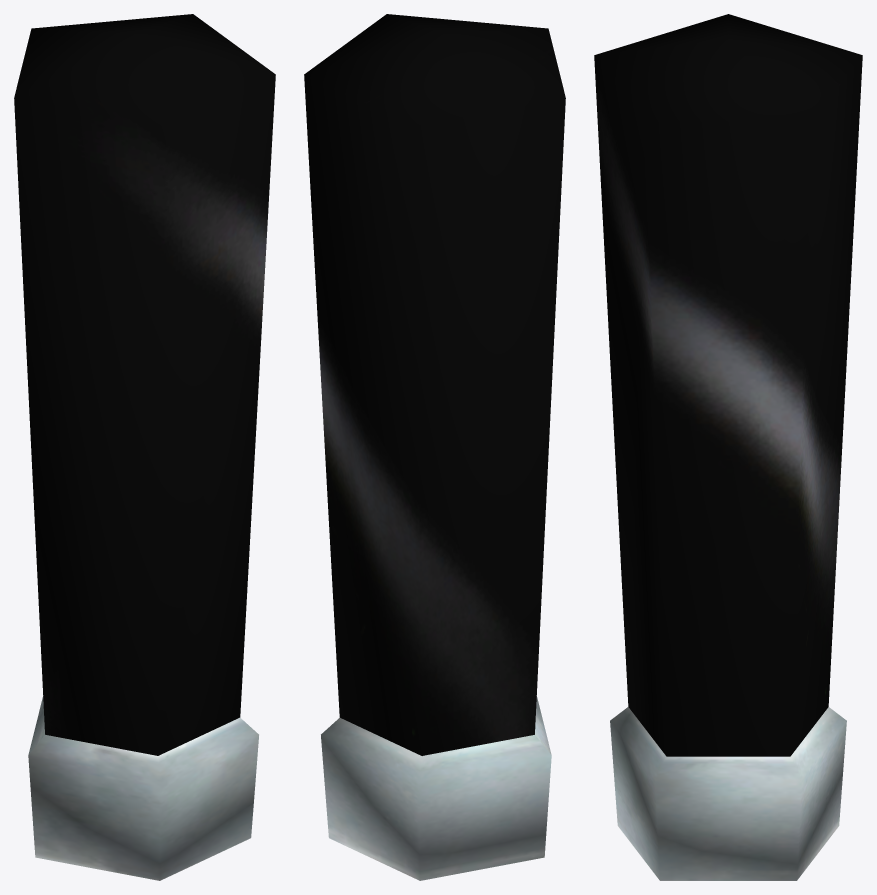
Rendered from metalcup03.obj.
The picture shows the model from 3 angles, left to right: view 1: azimuth 30°, elevation 25°; view 2: azimuth 150°, elevation 25°; view 3: azimuth 270°, elevation 25°; orthographic projection.
Visible parts, largest first — view 1: Geoset1, Geoset0; view 2: Geoset1, Geoset0; view 3: Geoset1, Geoset0.
Boxes of the visible parts, x1=… form: Geoset1: x1=14, y1=14, x2=275, y2=755; Geoset0: x1=28, y1=696, x2=258, y2=880; Geoset1: x1=304, y1=14, x2=565, y2=755; Geoset0: x1=321, y1=696, x2=551, y2=880; Geoset1: x1=594, y1=14, x2=862, y2=756; Geoset0: x1=610, y1=707, x2=846, y2=880.
Bounding box in the file's own units: 0.3215 × 1.11 × 0.3381.
Materials: 3 (3 with a texture image).
